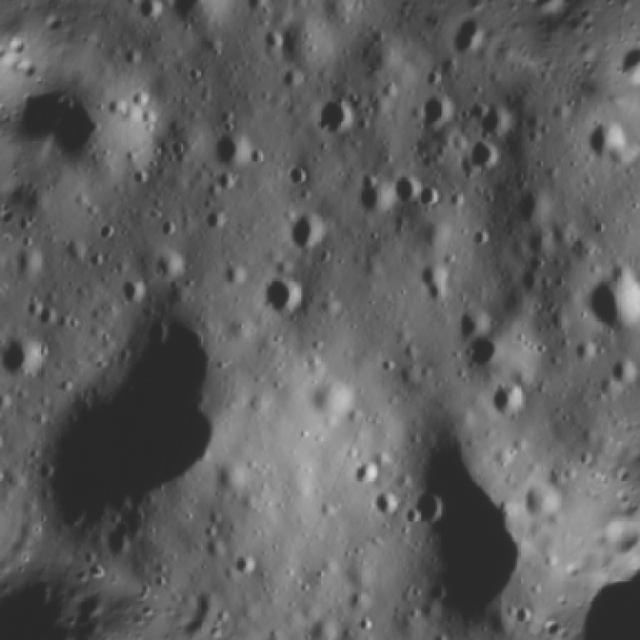crater: (10, 281, 273, 593), (353, 427, 564, 640), (38, 72, 165, 208), (569, 248, 640, 349), (567, 103, 640, 182), (0, 320, 63, 402), (276, 204, 349, 273), (248, 263, 318, 334), (345, 166, 413, 234), (403, 249, 469, 317), (304, 81, 368, 148), (199, 120, 264, 185), (464, 86, 528, 151), (398, 478, 465, 539), (452, 320, 513, 386), (405, 79, 464, 144), (512, 467, 571, 530), (452, 130, 511, 190), (382, 164, 438, 221), (507, 178, 561, 237), (141, 236, 197, 292), (484, 373, 536, 430), (359, 480, 412, 534), (15, 293, 71, 342), (211, 458, 260, 504), (107, 270, 155, 316), (518, 221, 565, 267), (5, 240, 49, 288), (346, 453, 391, 498), (425, 50, 467, 95), (278, 158, 322, 198), (226, 546, 266, 589), (57, 232, 97, 272), (126, 0, 171, 35), (462, 217, 502, 255), (198, 532, 236, 572), (506, 261, 546, 299), (217, 255, 254, 293), (198, 203, 234, 240), (276, 66, 312, 102), (149, 214, 186, 248), (416, 66, 452, 100), (86, 214, 123, 246), (254, 24, 288, 58), (375, 348, 407, 382), (163, 135, 194, 168), (236, 0, 276, 25), (353, 610, 379, 636), (134, 0, 183, 12), (0, 418, 11, 460), (0, 446, 9, 489)
